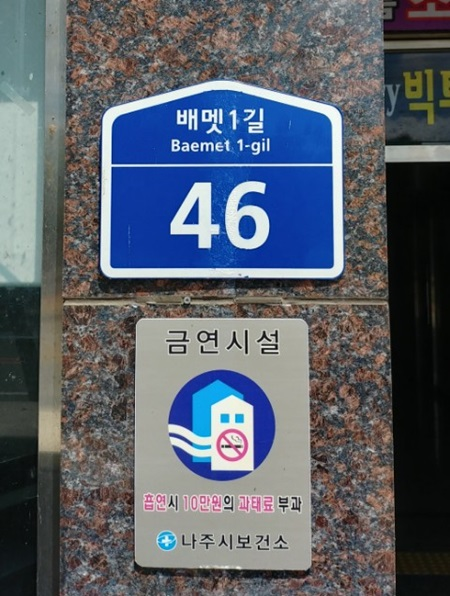building_license_plate1: (99, 81, 345, 280)
